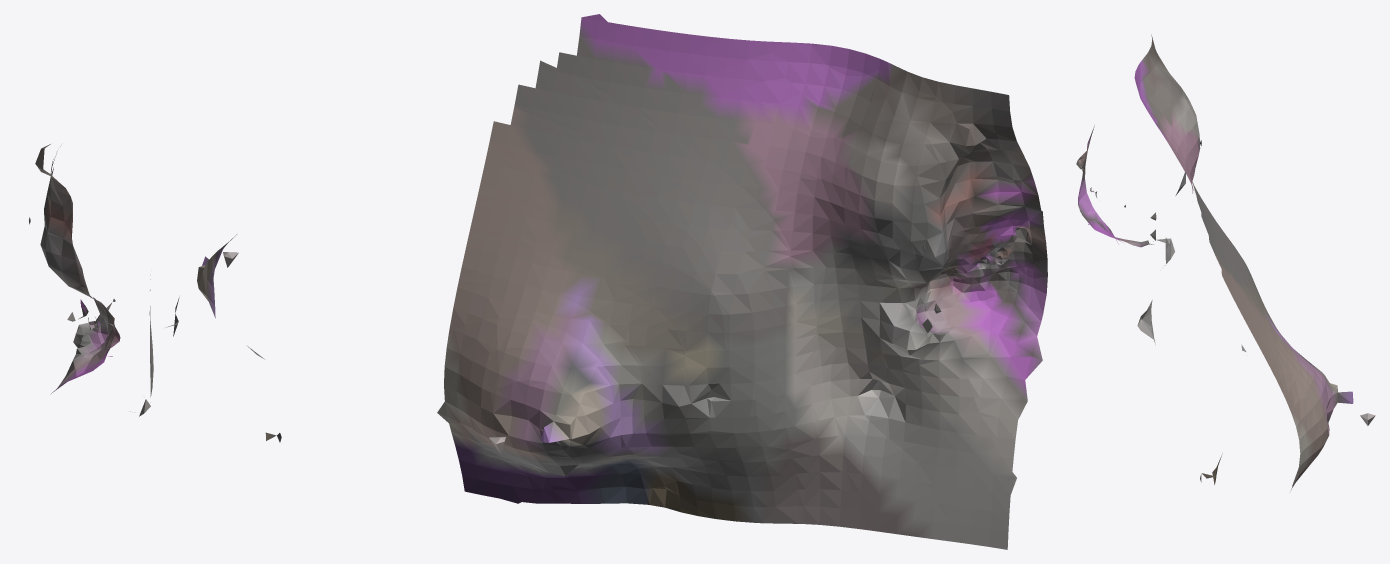
3 views of the same model, side by side, from view 1: azimuth 30°, elevation 25°; view 2: azimuth 150°, elevation 25°; view 3: azimuth 270°, elevation 25° (orthographic). The views are drawn at different scales.
Visible parts, largest first — view 1: geometry_0; view 2: geometry_0; view 3: geometry_0.
Boxes of the visible parts, x1,y1,x2,y2 form: geometry_0: [29, 144, 281, 442]; geometry_0: [437, 14, 1047, 549]; geometry_0: [1076, 34, 1375, 489].
Bounding box in the file's own units: 2 × 1.8 × 1.35.
